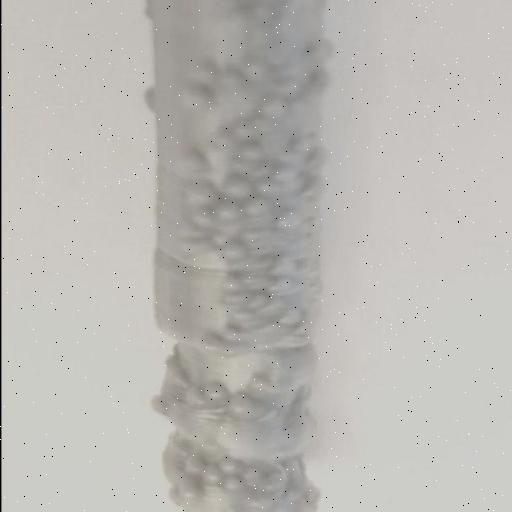blobs: (222, 387, 260, 423), (178, 86, 218, 114), (174, 147, 212, 173), (216, 239, 250, 268), (179, 184, 216, 208), (220, 172, 252, 198), (267, 159, 301, 183), (262, 97, 296, 121), (208, 199, 241, 223), (274, 208, 304, 234), (238, 138, 268, 163), (242, 285, 272, 309), (195, 330, 224, 354), (242, 198, 272, 220), (218, 456, 244, 478), (272, 252, 298, 274), (203, 380, 227, 403), (268, 275, 294, 296), (219, 476, 243, 498), (175, 478, 201, 498), (180, 450, 202, 473), (148, 394, 172, 415), (215, 322, 241, 341), (278, 308, 300, 330), (220, 272, 246, 290), (198, 468, 220, 487), (250, 372, 271, 390), (186, 381, 204, 400)
